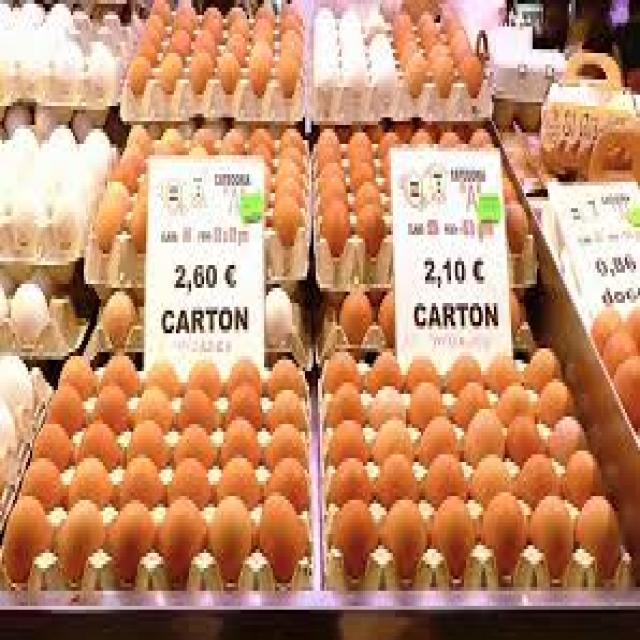organic waste: (0, 485, 52, 579), (256, 484, 307, 576), (477, 484, 524, 576), (155, 488, 206, 572), (326, 492, 376, 572), (105, 492, 155, 572), (574, 488, 618, 576), (54, 500, 103, 579), (378, 496, 425, 576), (428, 492, 474, 572), (526, 492, 571, 572), (208, 492, 249, 576), (560, 443, 602, 508), (62, 450, 108, 508), (516, 447, 562, 504), (322, 450, 367, 508), (114, 447, 159, 504), (92, 178, 127, 250), (460, 405, 504, 462), (423, 450, 466, 508), (369, 447, 416, 500), (122, 416, 168, 469), (468, 450, 509, 508), (161, 458, 208, 508), (0, 348, 32, 421), (264, 454, 307, 508), (215, 454, 258, 508), (56, 348, 99, 402), (262, 416, 307, 466), (129, 386, 174, 436), (22, 454, 62, 508), (444, 375, 488, 424), (168, 416, 210, 466), (9, 276, 45, 334), (99, 344, 137, 398), (264, 382, 305, 432), (610, 348, 638, 421), (99, 288, 135, 344), (546, 409, 584, 462), (535, 371, 573, 424), (417, 409, 455, 462), (219, 413, 260, 462), (75, 413, 116, 462), (370, 413, 410, 462), (221, 382, 260, 432), (174, 386, 213, 436), (45, 382, 84, 432), (367, 379, 406, 428), (502, 413, 544, 458), (408, 378, 442, 432), (32, 420, 71, 466), (365, 344, 400, 394), (588, 303, 623, 352), (601, 322, 636, 371), (264, 284, 292, 345), (266, 348, 303, 394), (338, 288, 370, 341), (45, 118, 75, 174), (524, 341, 558, 390), (58, 348, 94, 394), (324, 417, 363, 458), (320, 197, 350, 250), (266, 190, 298, 238), (496, 379, 533, 420), (320, 348, 359, 386), (221, 352, 260, 390), (483, 348, 518, 390), (352, 197, 382, 246), (92, 379, 124, 424), (9, 170, 43, 212), (47, 174, 84, 212), (116, 140, 146, 186), (400, 46, 428, 94), (428, 46, 456, 94), (324, 378, 359, 416), (440, 348, 479, 382), (81, 125, 108, 174), (402, 356, 436, 394), (340, 42, 370, 83), (187, 360, 219, 398), (370, 49, 396, 91), (458, 49, 481, 95), (49, 34, 84, 64), (247, 38, 268, 87), (273, 46, 294, 94), (507, 197, 526, 250), (312, 46, 338, 84), (124, 53, 150, 91), (135, 26, 161, 64), (144, 360, 176, 390), (0, 121, 11, 208), (346, 152, 374, 186), (187, 46, 210, 87), (374, 288, 393, 337), (22, 26, 49, 60), (311, 4, 335, 42), (346, 125, 372, 159), (316, 156, 342, 190), (86, 34, 112, 68), (359, 0, 391, 27), (449, 23, 470, 64), (215, 46, 236, 87), (314, 125, 339, 159), (191, 15, 215, 49), (317, 170, 343, 201), (28, 261, 54, 292), (157, 50, 180, 84), (354, 178, 380, 208), (395, 23, 415, 61), (225, 23, 245, 61), (185, 121, 212, 148), (202, 0, 223, 34), (376, 121, 399, 152), (129, 121, 152, 152), (11, 121, 34, 152), (0, 394, 13, 447), (247, 136, 271, 163), (45, 0, 69, 27), (272, 174, 300, 197), (277, 140, 305, 163), (131, 201, 144, 250), (168, 23, 189, 53), (279, 4, 303, 30), (275, 118, 303, 140), (438, 4, 458, 34), (365, 30, 391, 53), (337, 0, 363, 23), (217, 125, 243, 148), (17, 0, 43, 23), (275, 152, 301, 174), (0, 26, 19, 56), (142, 11, 163, 38), (337, 22, 365, 42), (247, 121, 271, 144), (148, 0, 172, 23), (625, 303, 638, 345), (421, 23, 442, 49), (279, 27, 299, 53), (174, 0, 193, 27), (0, 265, 11, 311), (408, 121, 434, 140), (414, 0, 432, 27), (391, 4, 412, 26), (251, 11, 271, 34), (509, 288, 520, 329), (159, 125, 178, 148), (228, 8, 247, 26), (503, 167, 513, 200), (468, 125, 488, 140), (440, 125, 458, 140), (0, 0, 11, 23), (133, 174, 146, 193), (34, 132, 45, 152), (378, 148, 387, 166), (382, 170, 389, 190)
